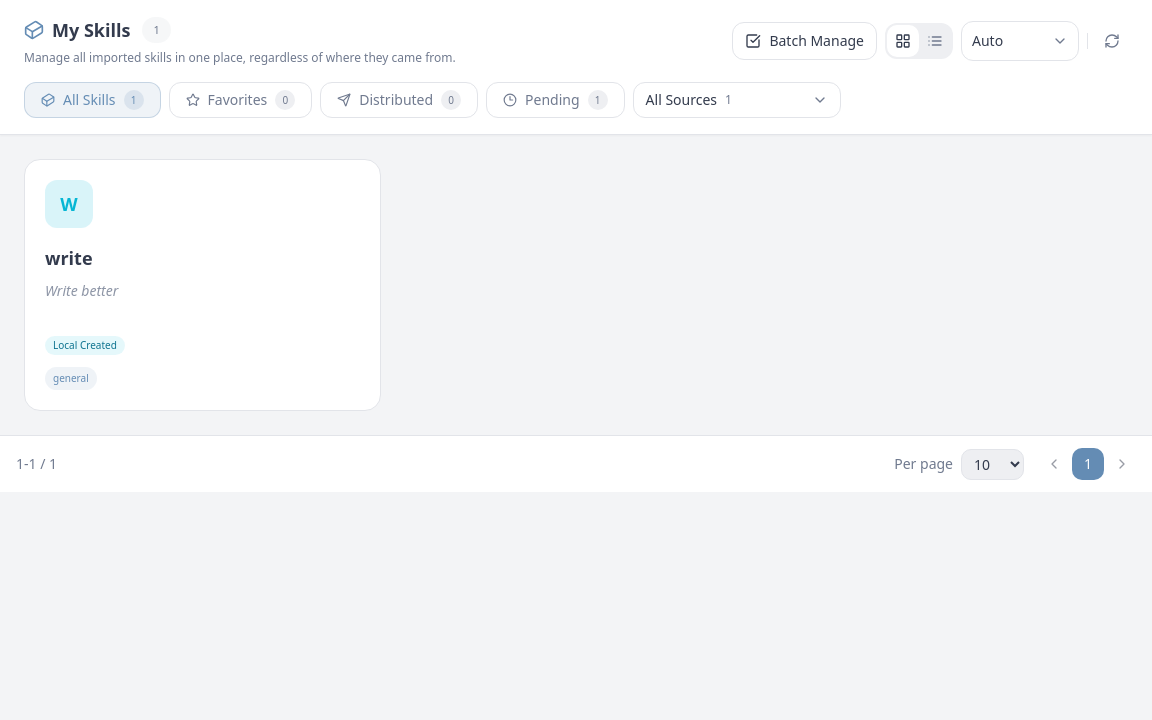
Test: skill i18n smoke › renders skill manager actions in english and updates selection summary
Expected: the text "Manage all imported skills in one place, regardless of where they came from." is shown, [24,49,456,66]
Click the button "Batch Manage": (805, 41) [732,22,877,60]
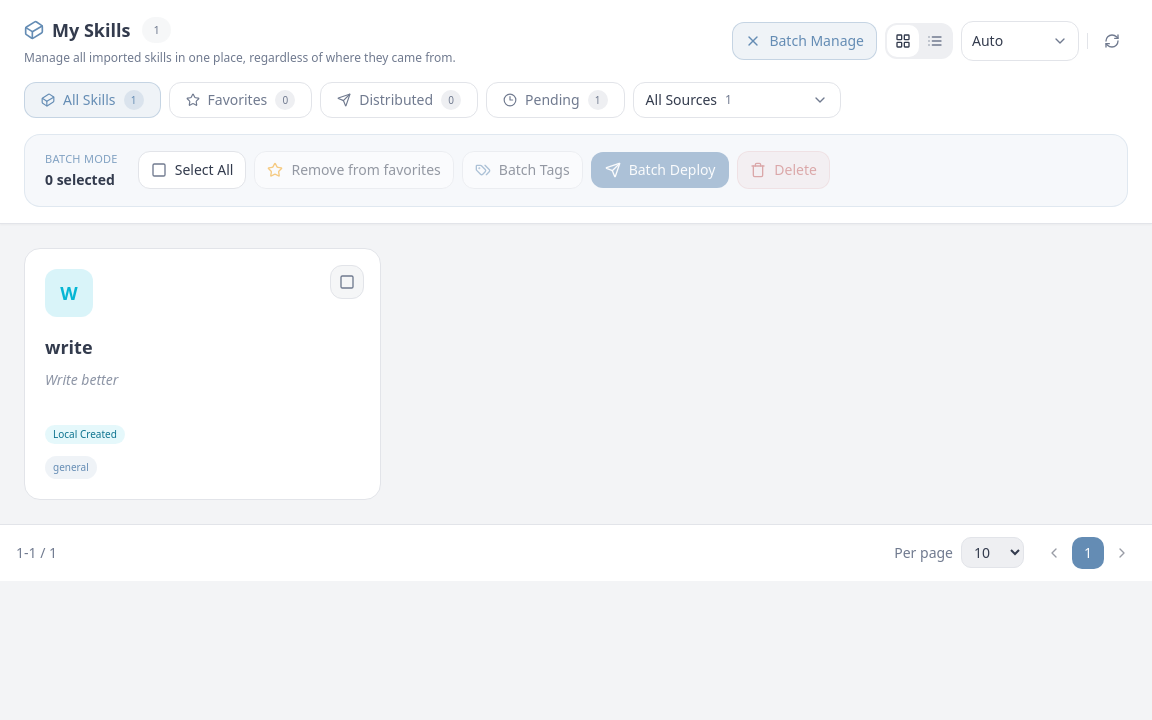
Expected: the text "Batch Mode" is shown, [45,151,118,168]
Expected: the text "0 selected" is shown, [45,170,118,190]
Click the button "Select All": (192, 170) [138,151,246,189]
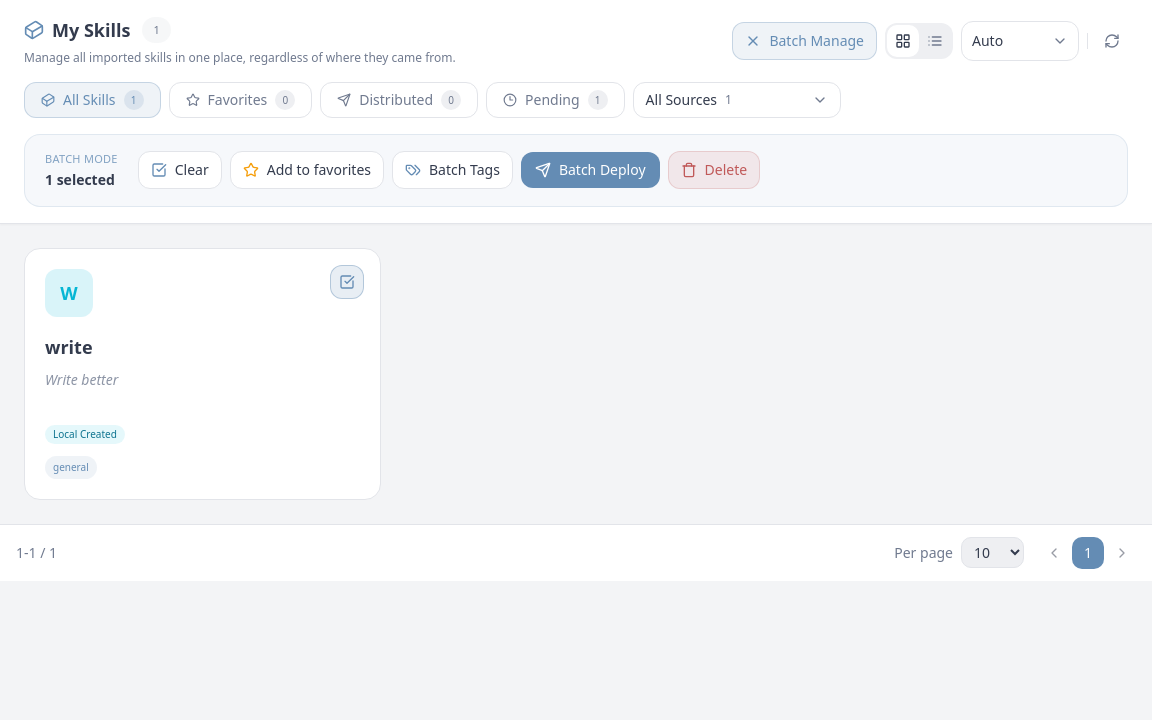
Expected: the button "Batch Deploy" is shown, [521,152,660,188]
Expected: the text "1 selected" is shown, [45,170,118,190]
Click the button "Batch Manage": (805, 41) [732,22,877,60]
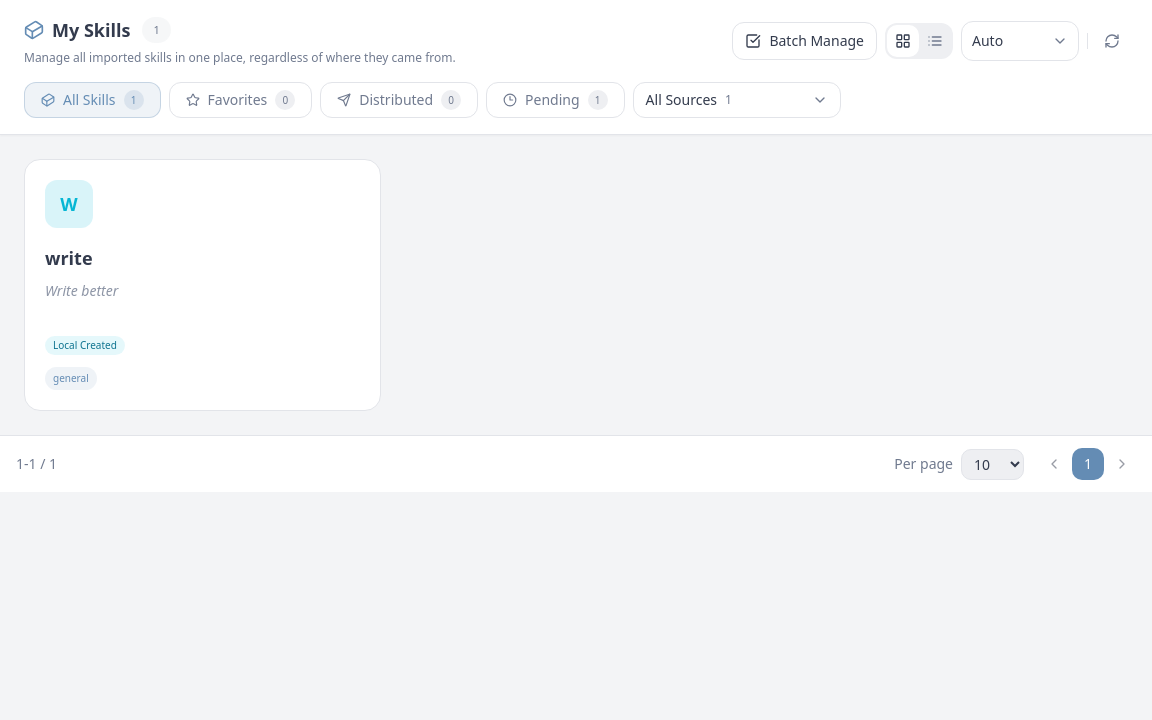
Expected: the text "Batch Mode" is gone
Expected: the button "Batch Deploy" is gone
